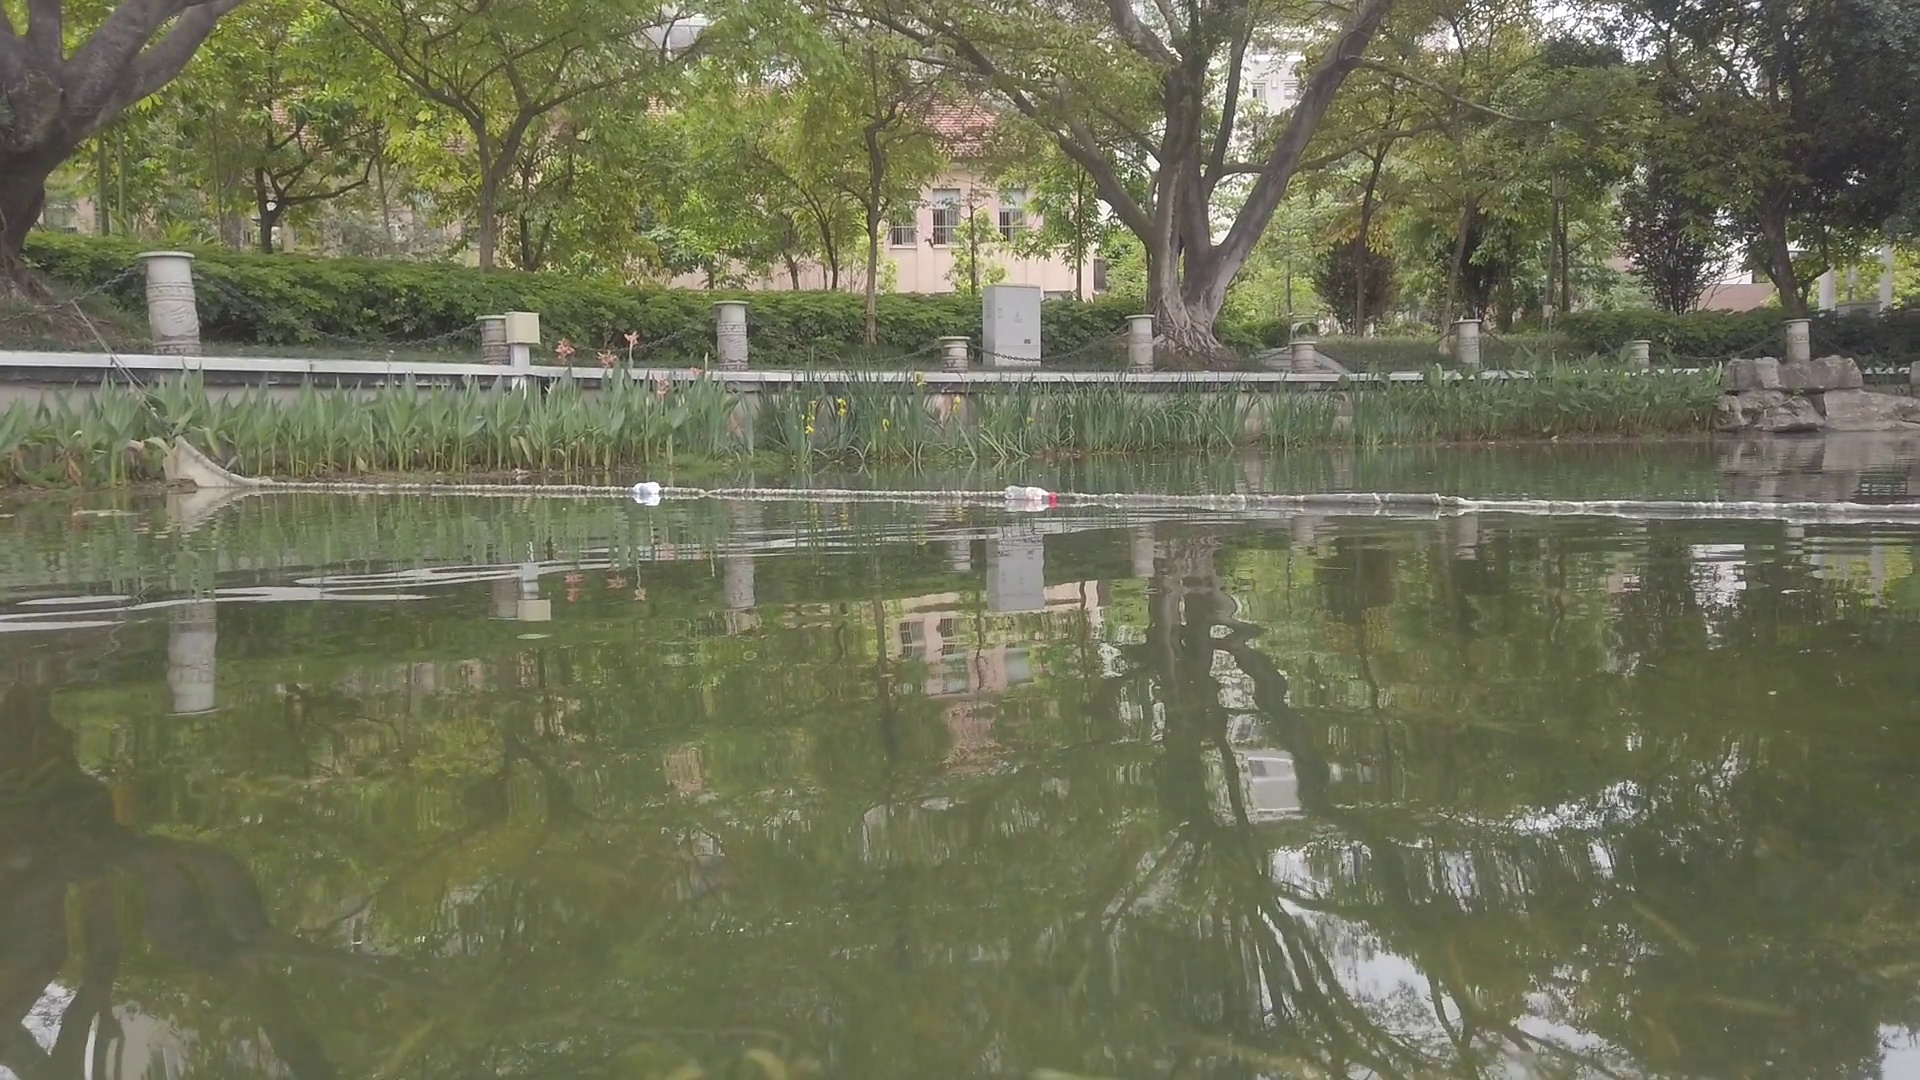bottle: (1005, 487, 1060, 504), (633, 480, 659, 495)
